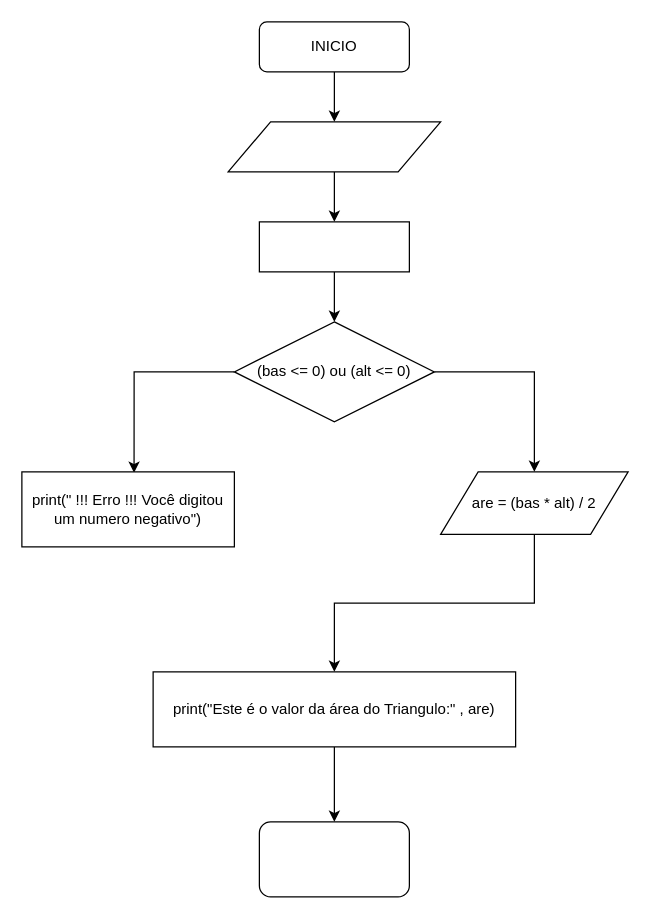
The diagram is 650 pixels wide and 919 high, and some of its shapes have lost their labels. Each missing label, with the box of its shape:
bas, alt, are : real/float: (227, 121, 441, 172)
FIM: (258, 821, 409, 897)
leia (bas, alt): (258, 221, 409, 272)
